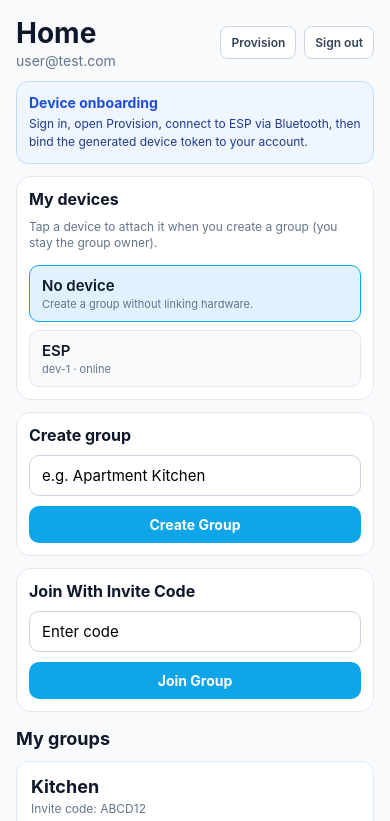
Test: DashboardScreen › shows generic errors when create or join fail without messages
Expected: the text "Kitchen" is shown, x1=31 y1=776 x2=99 y2=797
In the field with placeholder "e.g. Apartment Kitchen": (195,476) x1=29 y1=455 x2=361 y2=496, type "Garage"
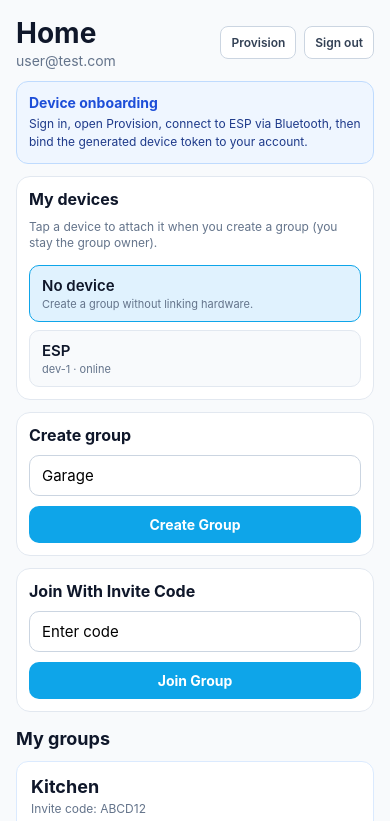
Click the text "Create Group": (195,524) x1=150 y1=516 x2=240 y2=533
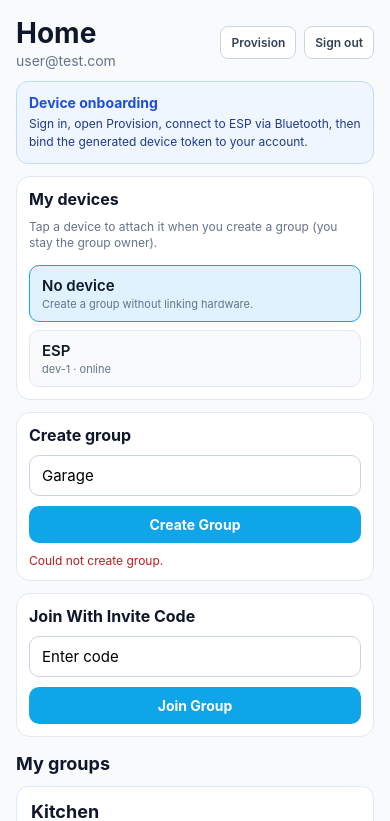
Now the text "Could not create group." is shown, box x1=29 y1=553 x2=163 y2=568
In the field with placeholder "Enter code": (195,656) x1=29 y1=636 x2=361 y2=677, type "NEWCODE"
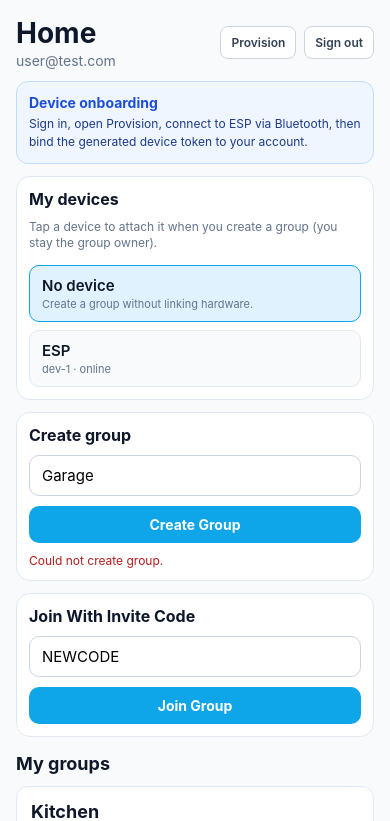
Click the text "Join Group": (195,706) x1=158 y1=697 x2=232 y2=714
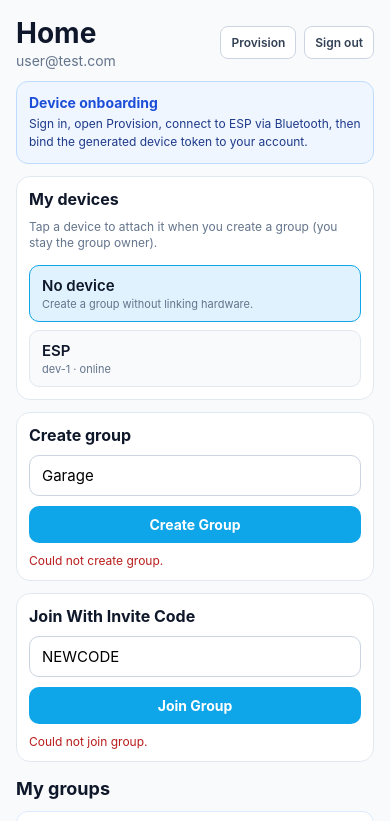
Now the text "Could not join group." is shown, box x1=29 y1=734 x2=148 y2=749
